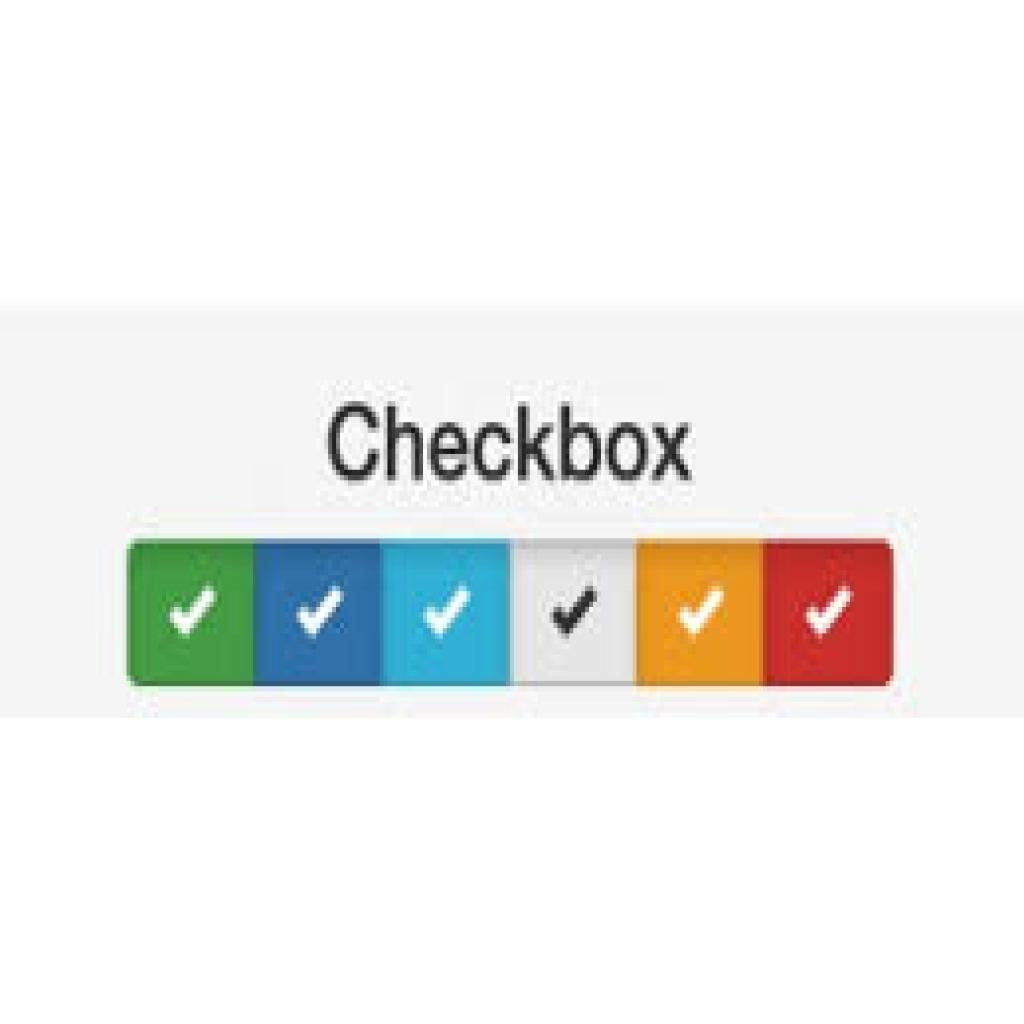checkbox: (254, 540, 388, 689), (760, 537, 891, 685), (510, 543, 643, 688), (382, 543, 514, 689), (638, 537, 761, 689), (133, 545, 257, 686)
